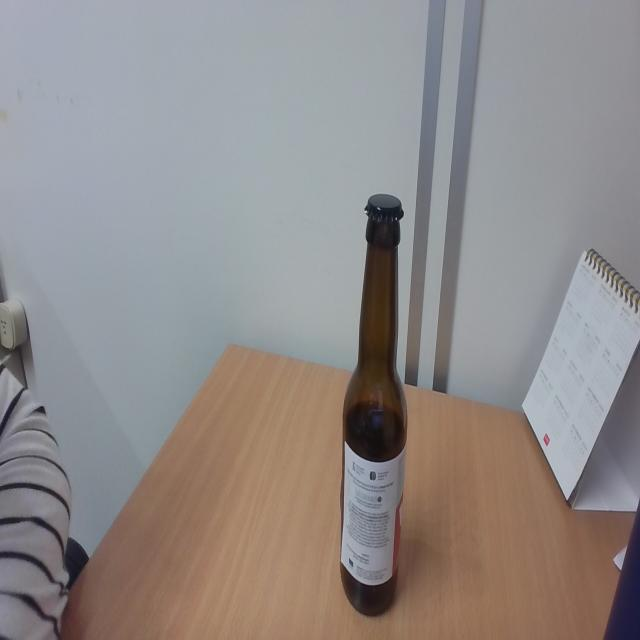Bottle: (338, 193, 408, 617)
Cap: (360, 191, 408, 227)
Label: (343, 444, 404, 584)
